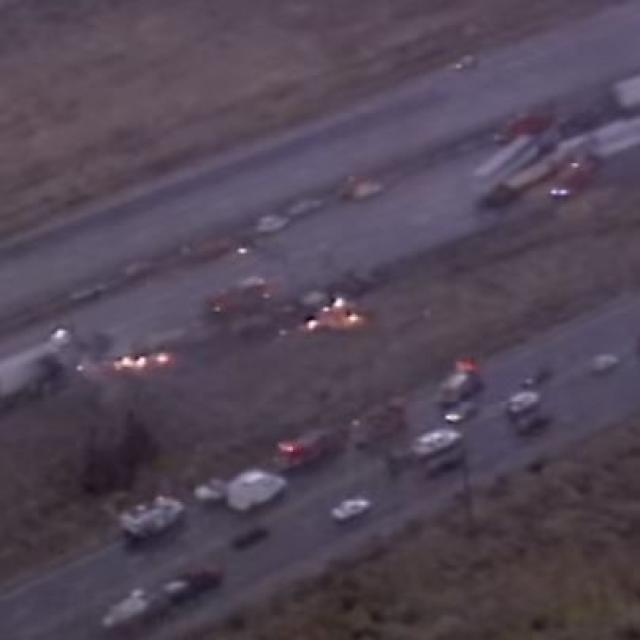traffic_incident: (466, 88, 638, 220)
